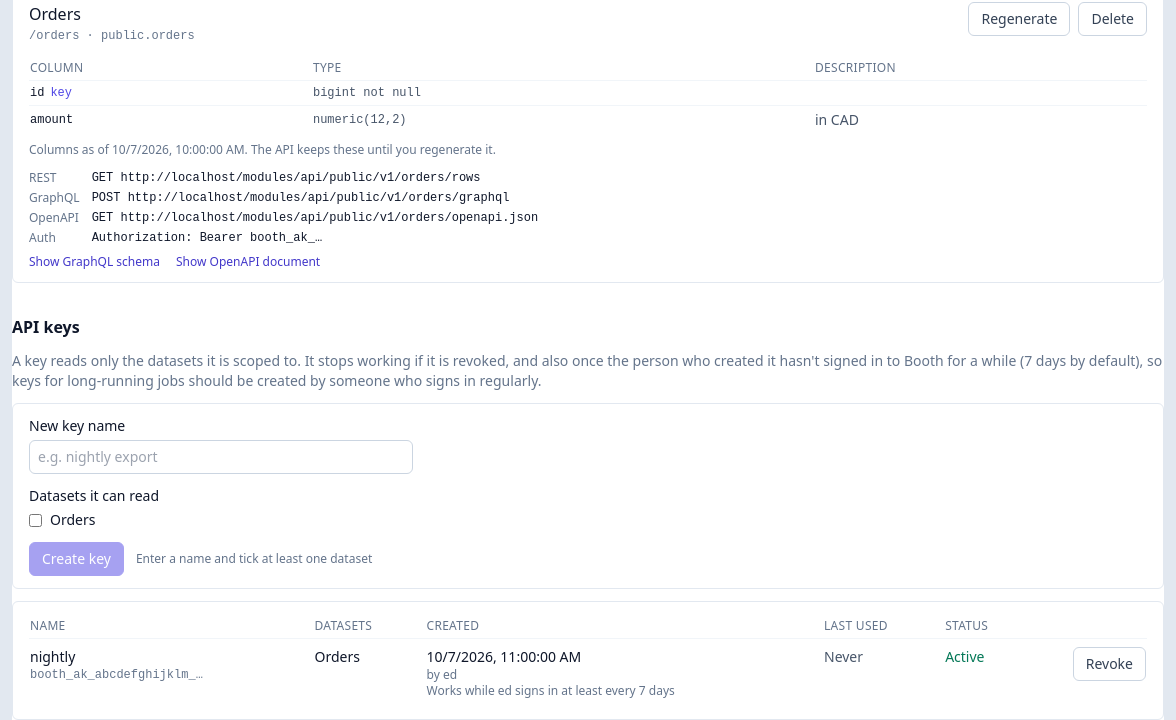
ApiApp › says why Create key is disabled until there is a name and a dataset
(page scrolled)
Expected: the button "Create key" is disabled, left=29, top=542, right=124, bottom=576
Expected: the text "Enter a name and tick at least one dataset" is shown, left=136, top=551, right=372, bottom=567
Step 1. Type "export" into the field labelled "New key name" → (221, 457), box left=29, top=440, right=413, bottom=474
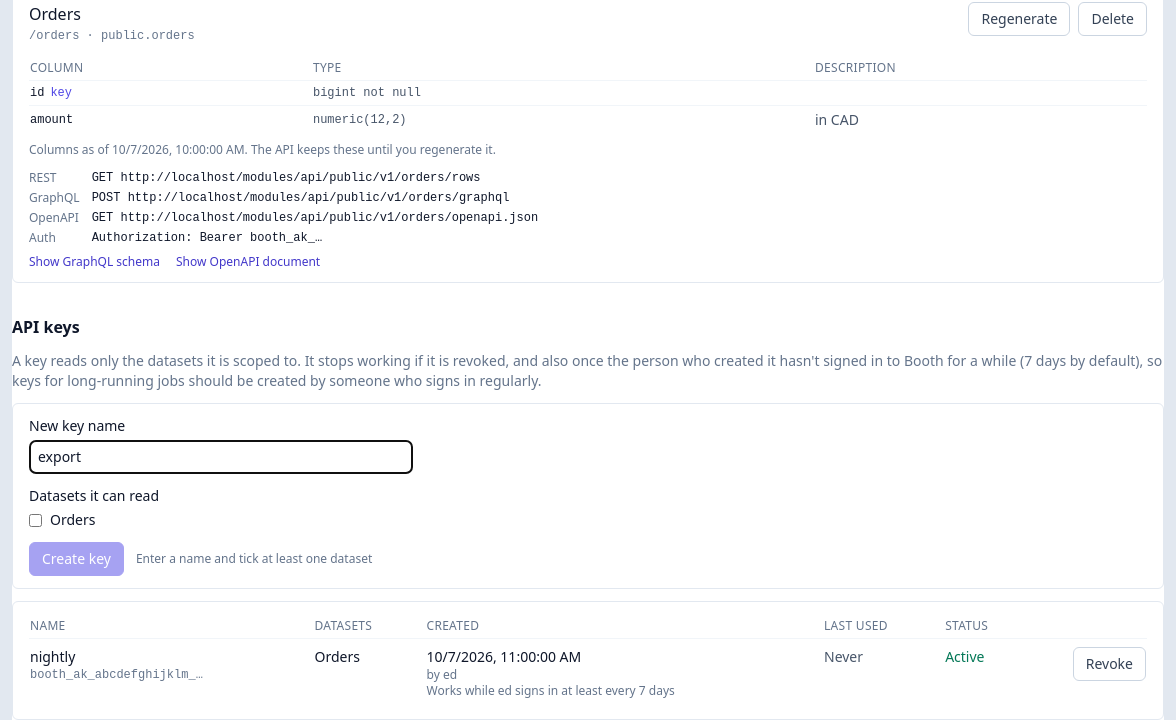
Step 2. Click the checkbox labelled "Orders" → (36, 520), box left=29, top=514, right=42, bottom=526
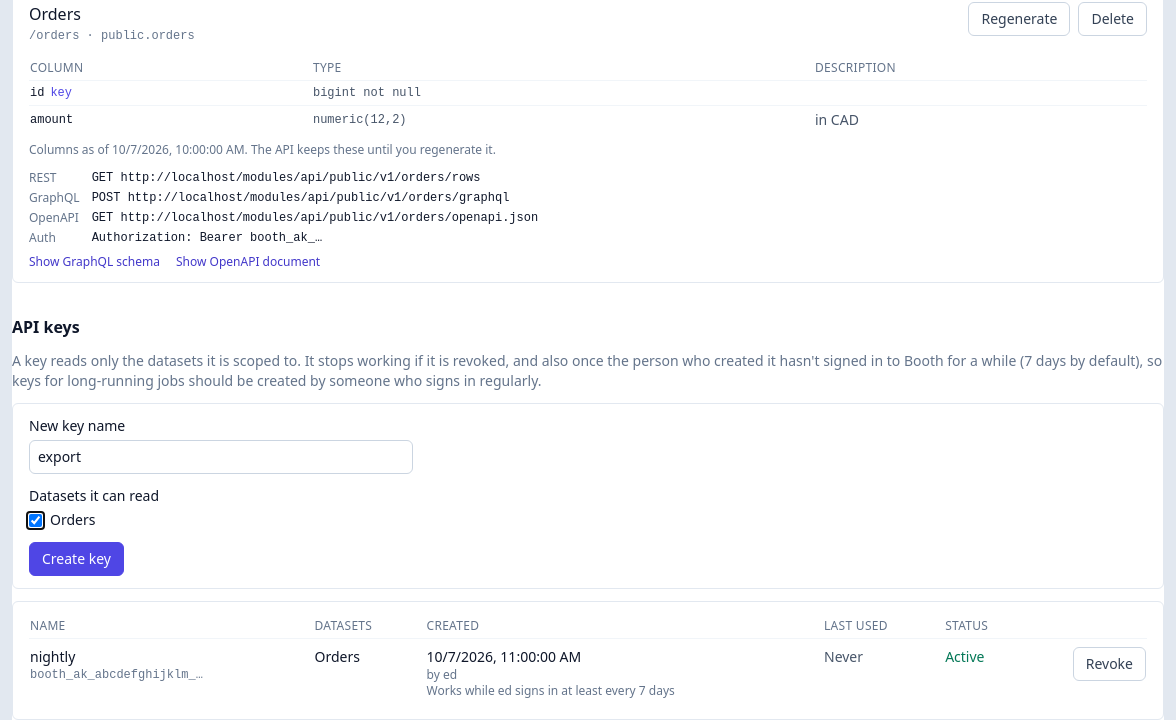
Expected: the button "Create key" is enabled, left=29, top=542, right=124, bottom=576
Expected: the text "Enter a name and tick at least one dataset" is gone
